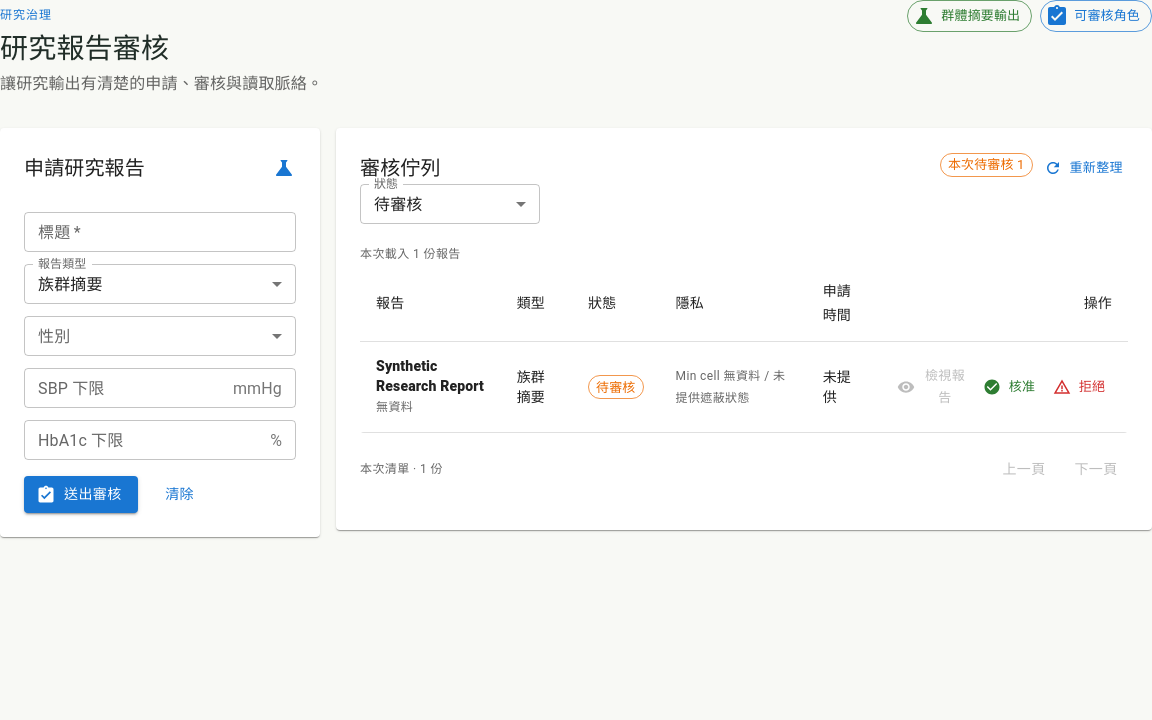
Test case: review failure releases the operation lock for an explicit retry
expect the text "Synthetic Research Report" is shown: met, box 376,356 -> 485,396
Click the button "核准" at (1010, 387), box 978,361 -> 1042,414
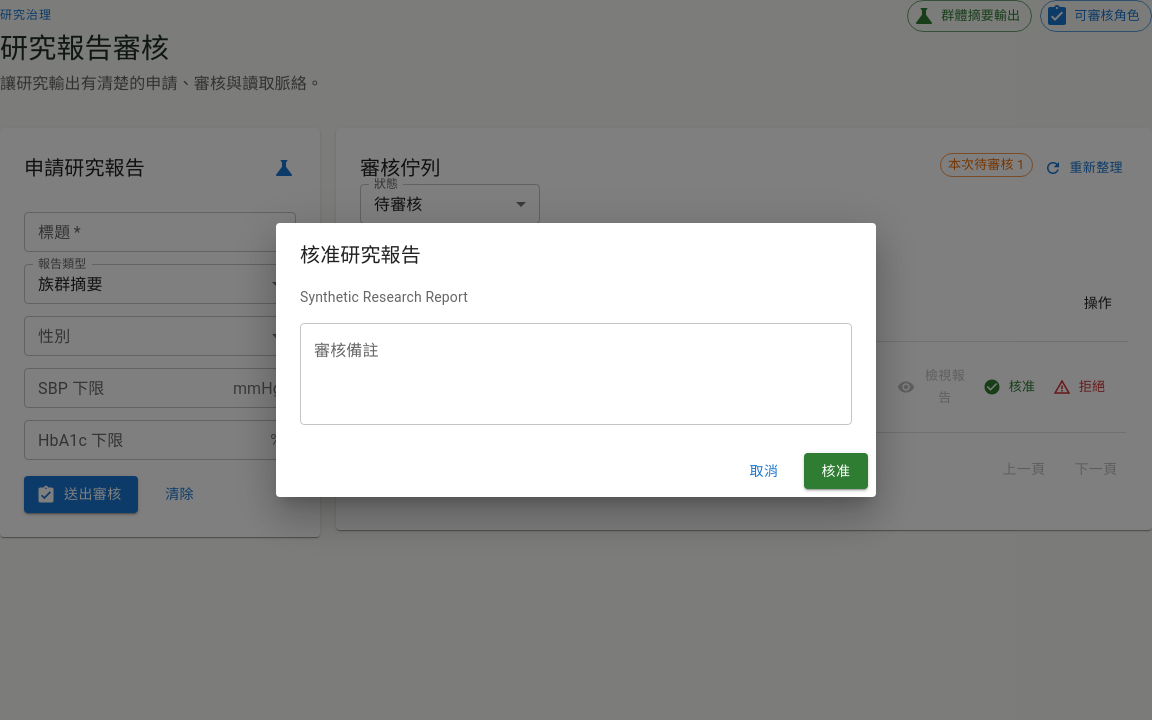
Click the button "核准" at (836, 471), box 804,453 -> 868,489
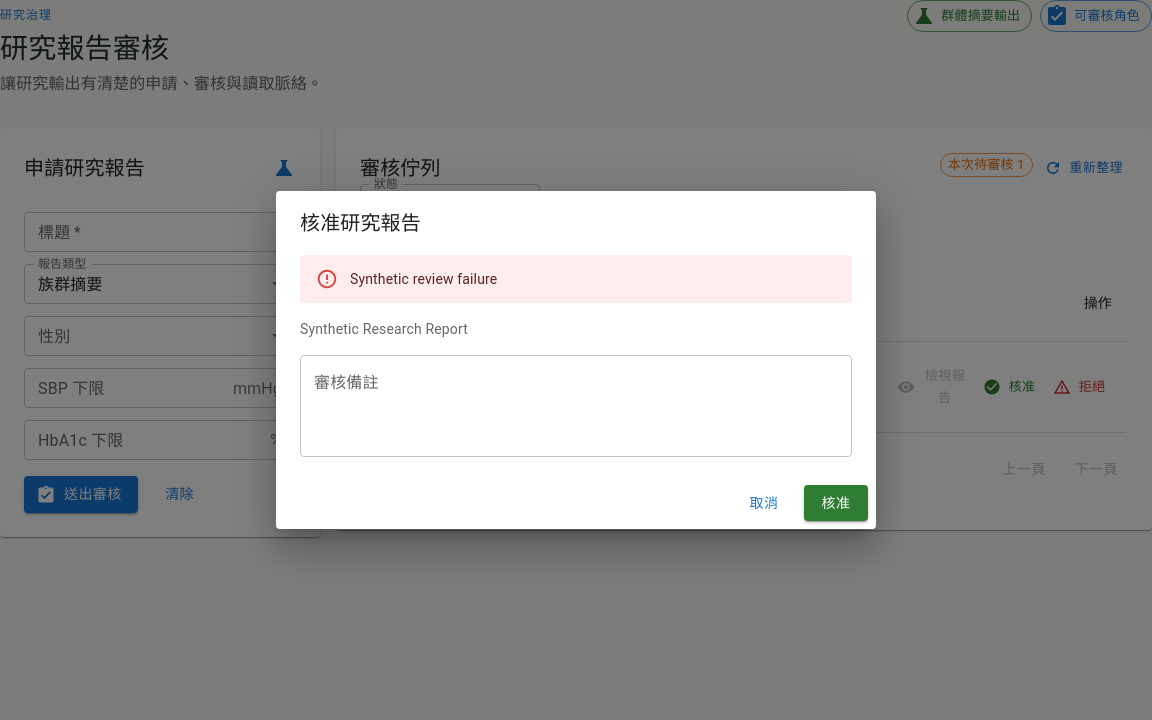
expect the message "Synthetic review failure" is shown: met, box 300,255 -> 852,303
Click the button "核准" at (836, 503), box 804,485 -> 868,521
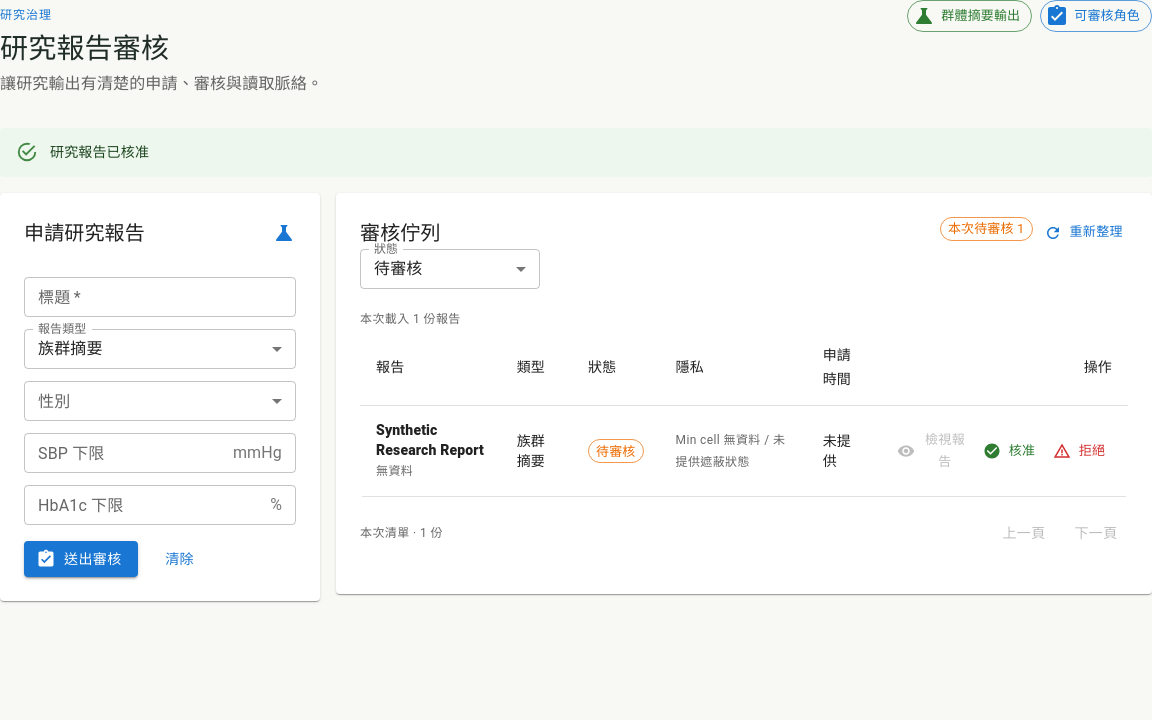
expect the text "研究報告已核准" is shown: met, box 50,144 -> 149,160
